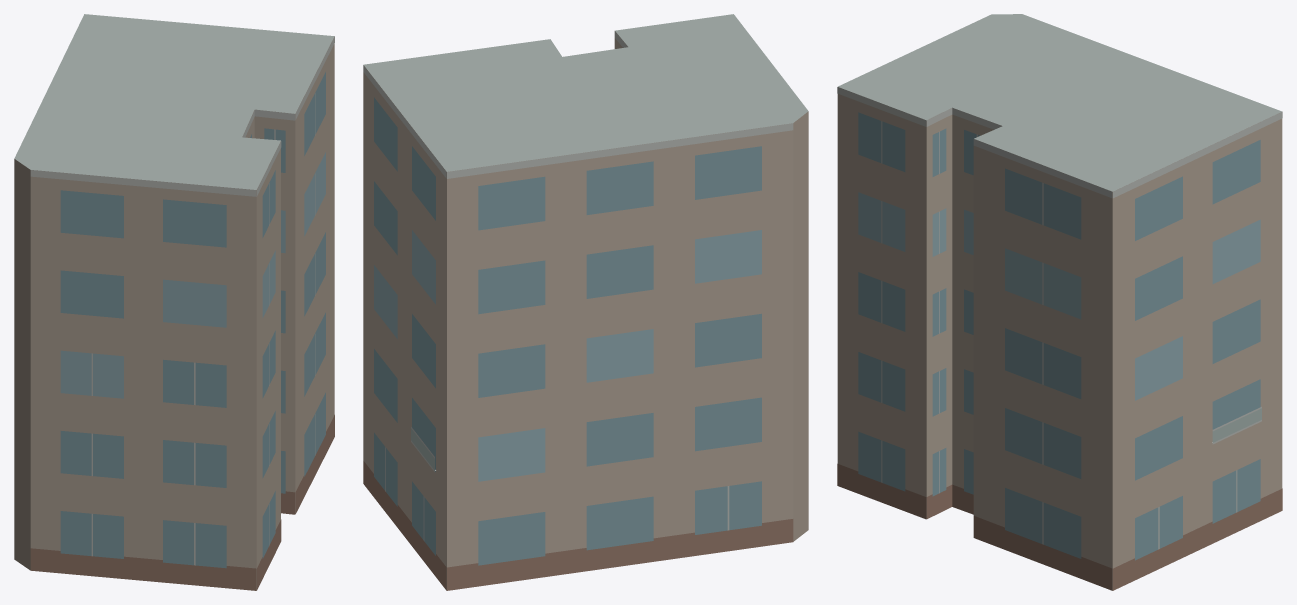
File: survey-upis-32999817.glb
The picture shows the model from 3 angles, left to right: view 1: azimuth 30°, elevation 25°; view 2: azimuth 150°, elevation 25°; view 3: azimuth 270°, elevation 25°; orthographic projection. The views are drawn at different scales.
Visible parts, largest first — view 1: survey-upis-32999817.tmp; view 2: survey-upis-32999817.tmp; view 3: survey-upis-32999817.tmp.
Part boxes in pixels (box(x1,y1,x2,y2)): survey-upis-32999817.tmp: box(14, 14, 334, 590); survey-upis-32999817.tmp: box(363, 14, 808, 590); survey-upis-32999817.tmp: box(837, 14, 1282, 590).
Bounding box in the file's own units: 13.71 × 14.35 × 14.51.
